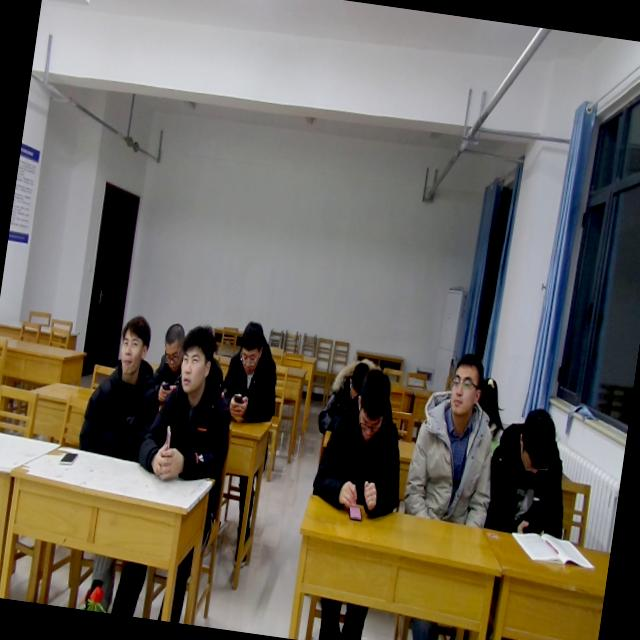bow: (217, 314, 288, 429), (314, 351, 383, 442), (149, 315, 193, 407), (470, 371, 516, 458)
down: (512, 400, 564, 482), (347, 365, 395, 446), (231, 312, 270, 380), (157, 320, 190, 374), (342, 354, 368, 400)
lookup: (172, 316, 222, 397), (441, 346, 489, 422), (112, 310, 154, 382)
sit: (400, 342, 512, 533), (132, 318, 246, 490), (308, 362, 417, 518), (75, 311, 172, 465), (479, 400, 580, 542)
